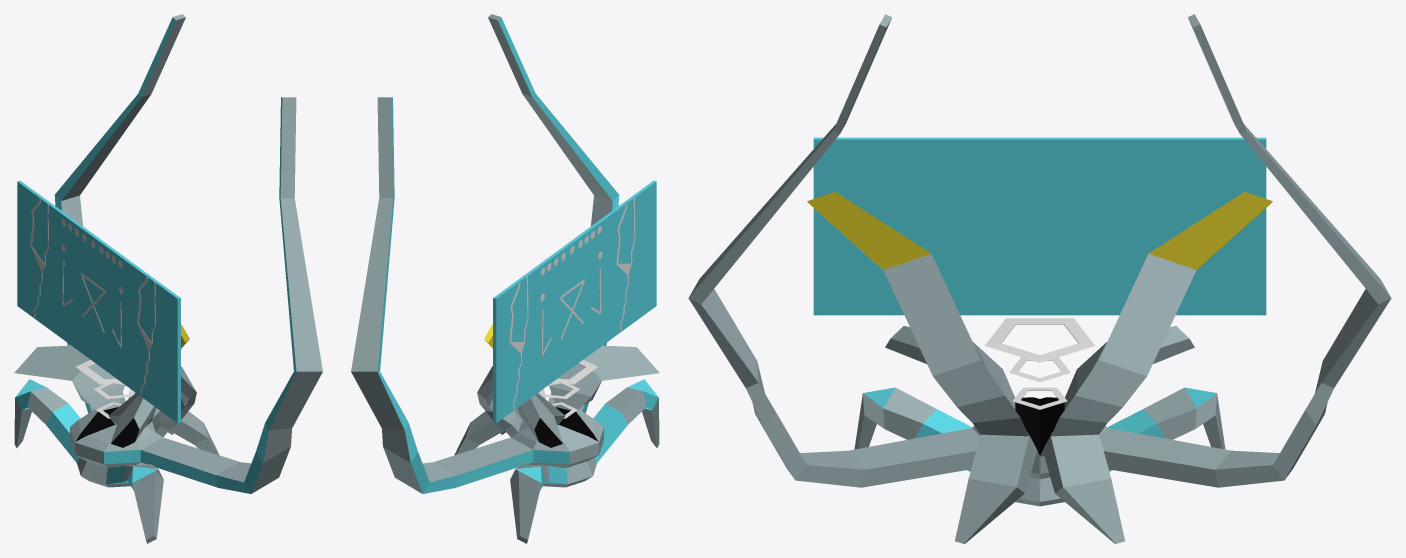
Rendered from Tasks_fourth_level.fbx.
The picture shows the model from 3 angles, left to right: view 1: azimuth 30°, elevation 25°; view 2: azimuth 150°, elevation 25°; view 3: azimuth 270°, elevation 25°; orthographic projection. The views are drawn at different scales.
Parts seen in each view (by area): view 1: Circle.001, Cube, Cube.005, Cube.006; view 2: Circle.001, Cube, Cube.006, Cube.005; view 3: Circle.001, Cube, Torus.001.
Part boxes in pixels (x1,y1,x2,y2): Circle.001: (14, 14, 322, 543); Cube: (17, 180, 180, 423); Cube.005: (30, 198, 48, 317); Cube.006: (137, 276, 155, 395); Circle.001: (351, 14, 659, 543); Cube: (493, 180, 656, 423); Cube.006: (616, 197, 635, 331); Cube.005: (509, 276, 528, 409); Circle.001: (688, 14, 1391, 543); Cube: (813, 137, 1266, 315); Torus.001: (985, 318, 1094, 362).
Size of the model in its own units: 657 by 1422 by 1594.
